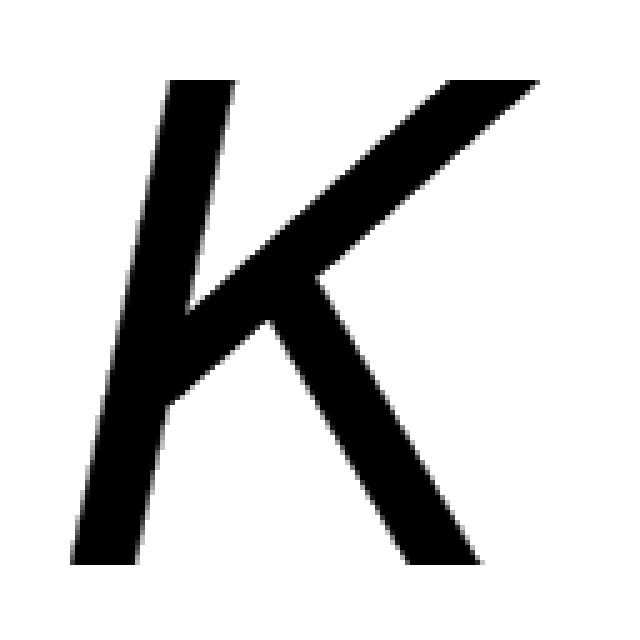K: (60, 65, 540, 570)
